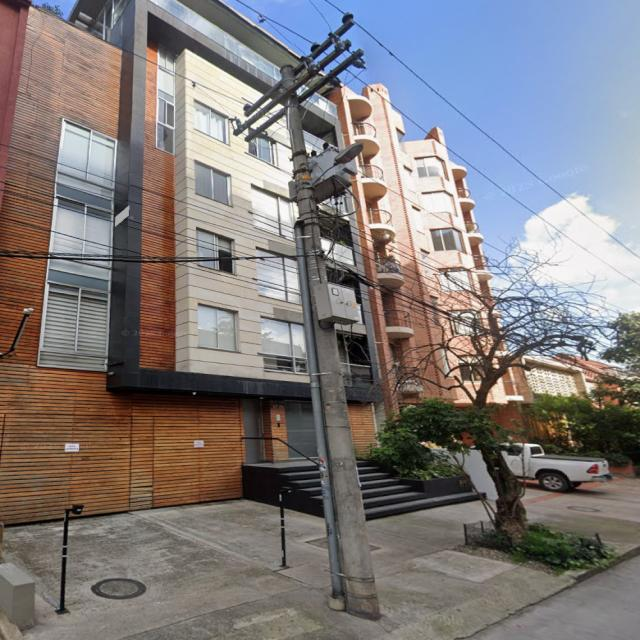fachada: (0, 0, 315, 523), (331, 85, 491, 411)
poste: (287, 93, 379, 619), (295, 225, 343, 598), (55, 509, 70, 614), (279, 489, 287, 568)
